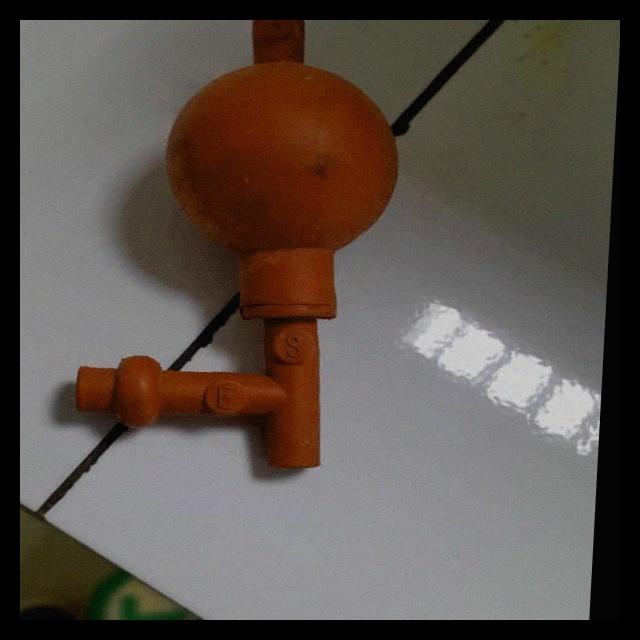Droppers: (60, 20, 468, 487)
